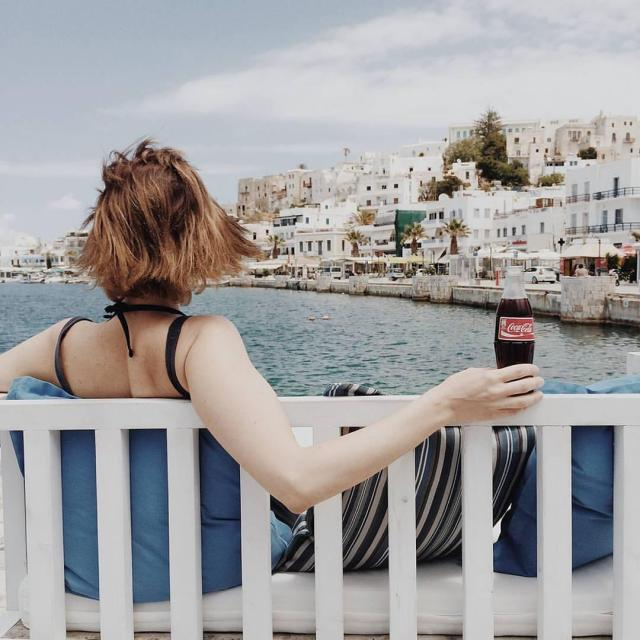coca-cola: (492, 265, 537, 394)
